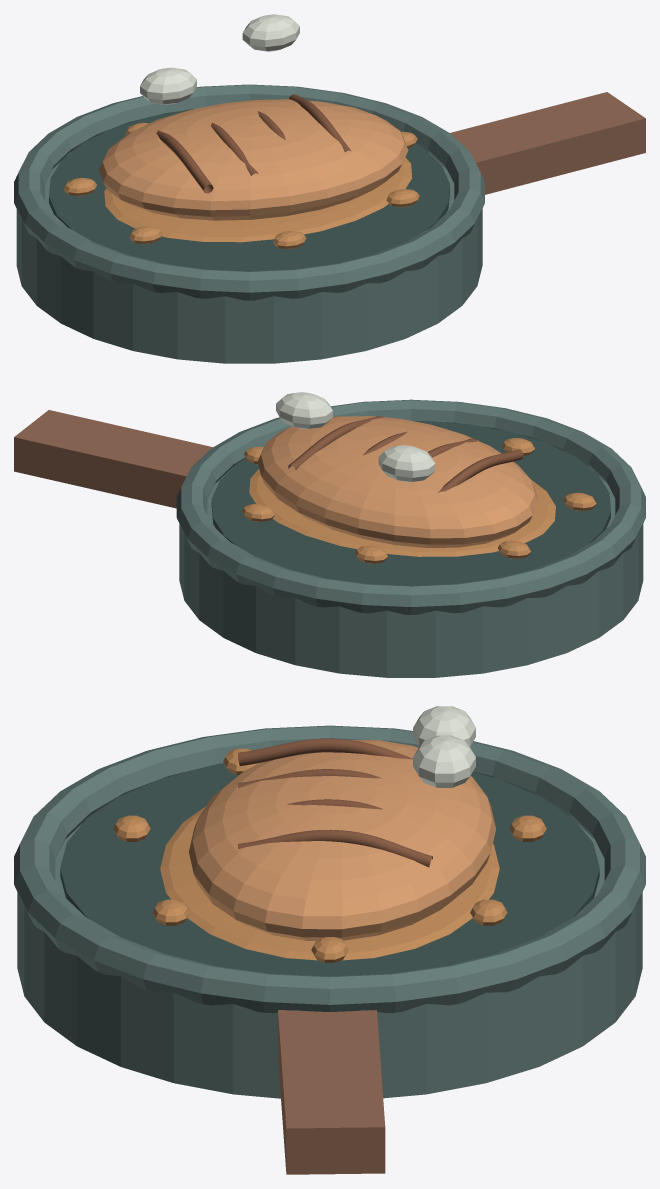
The model's file is pan_seared_chicken.glb.
The picture shows the model from 3 angles, top to bottom: view 1: azimuth 30°, elevation 25°; view 2: azimuth 150°, elevation 25°; view 3: azimuth 270°, elevation 25°; orthographic projection. The views are drawn at different scales.
Visible parts, largest first — view 1: round_skillet_base, one_chicken_fillet, rolled_pan_lip, dark_skillet_well, rounded_skillet_handle, oil_under_fillet, pan_sizzle_steam_1, pan_sizzle_steam_0, browning_ridge_0, browning_ridge_3; view 2: round_skillet_base, rolled_pan_lip, one_chicken_fillet, dark_skillet_well, rounded_skillet_handle, oil_under_fillet, pan_sizzle_steam_0, pan_sizzle_steam_1, browning_ridge_0, browning_ridge_3, tiny_sizzle_bubble_2, tiny_sizzle_bubble_4 (+2 smaller); view 3: round_skillet_base, rolled_pan_lip, one_chicken_fillet, dark_skillet_well, rounded_skillet_handle, oil_under_fillet, pan_sizzle_steam_1, browning_ridge_0, browning_ridge_3, pan_sizzle_steam_0, tiny_sizzle_bubble_1, tiny_sizzle_bubble_6 (+4 smaller).
Boxes of the visible parts, bbox=[...] form: round_skillet_base: bbox=[16, 152, 482, 363]; one_chicken_fillet: bbox=[99, 99, 408, 220]; rolled_pan_lip: bbox=[14, 84, 484, 300]; dark_skillet_well: bbox=[49, 109, 449, 271]; rounded_skillet_handle: bbox=[450, 92, 645, 194]; oil_under_fillet: bbox=[104, 157, 412, 242]; pan_sizzle_steam_1: bbox=[242, 14, 299, 51]; pan_sizzle_steam_0: bbox=[140, 67, 196, 104]; browning_ridge_0: bbox=[156, 130, 213, 193]; browning_ridge_3: bbox=[289, 94, 351, 152]; round_skillet_base: bbox=[179, 467, 643, 677]; rolled_pan_lip: bbox=[176, 399, 645, 614]; one_chicken_fillet: bbox=[257, 416, 538, 547]; dark_skillet_well: bbox=[211, 421, 610, 585]; rounded_skillet_handle: bbox=[14, 410, 212, 508]; oil_under_fillet: bbox=[249, 469, 555, 556]; pan_sizzle_steam_0: bbox=[378, 445, 435, 482]; pan_sizzle_steam_1: bbox=[276, 392, 332, 429]; browning_ridge_0: bbox=[438, 449, 523, 492]; browning_ridge_3: bbox=[288, 415, 383, 469]; tiny_sizzle_bubble_2: bbox=[354, 545, 387, 563]; tiny_sizzle_bubble_4: bbox=[563, 492, 596, 510]; round_skillet_base: bbox=[17, 823, 642, 1098]; rolled_pan_lip: bbox=[14, 725, 645, 1012]; one_chicken_fillet: bbox=[189, 740, 495, 940]; dark_skillet_well: bbox=[60, 763, 599, 976]; rounded_skillet_handle: bbox=[278, 1010, 385, 1174]; oil_under_fillet: bbox=[160, 806, 499, 960]; pan_sizzle_steam_1: bbox=[413, 735, 475, 787]; browning_ridge_0: bbox=[238, 738, 412, 766]; browning_ridge_3: bbox=[238, 829, 432, 867]; pan_sizzle_steam_0: bbox=[413, 706, 475, 746]; tiny_sizzle_bubble_1: bbox=[470, 899, 507, 925]; tiny_sizzle_bubble_6: bbox=[152, 899, 189, 925].
Bounding box in the file's own units: 0.8703 × 0.286 × 0.6067.
